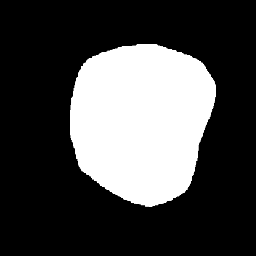mass: (77, 50, 210, 202)
